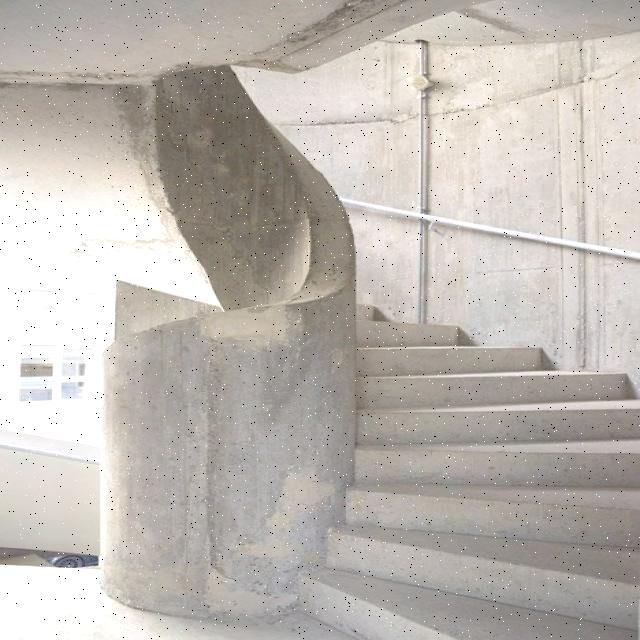stairs: (296, 302, 638, 638)
